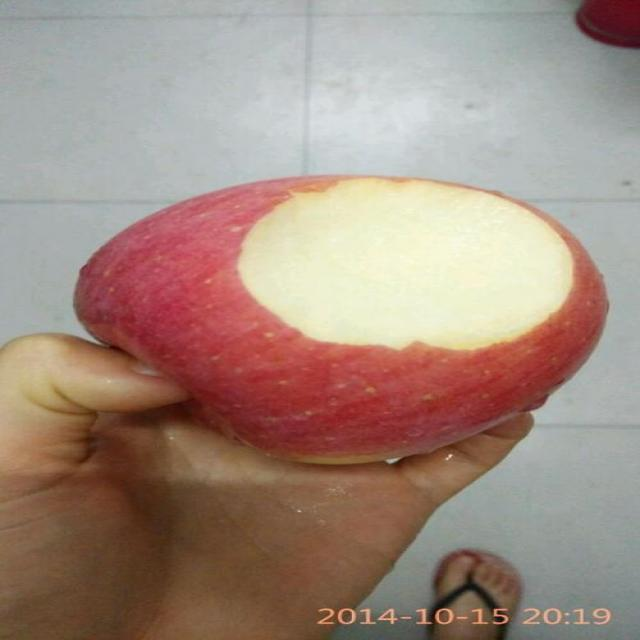Banana: (75, 173, 600, 468)
